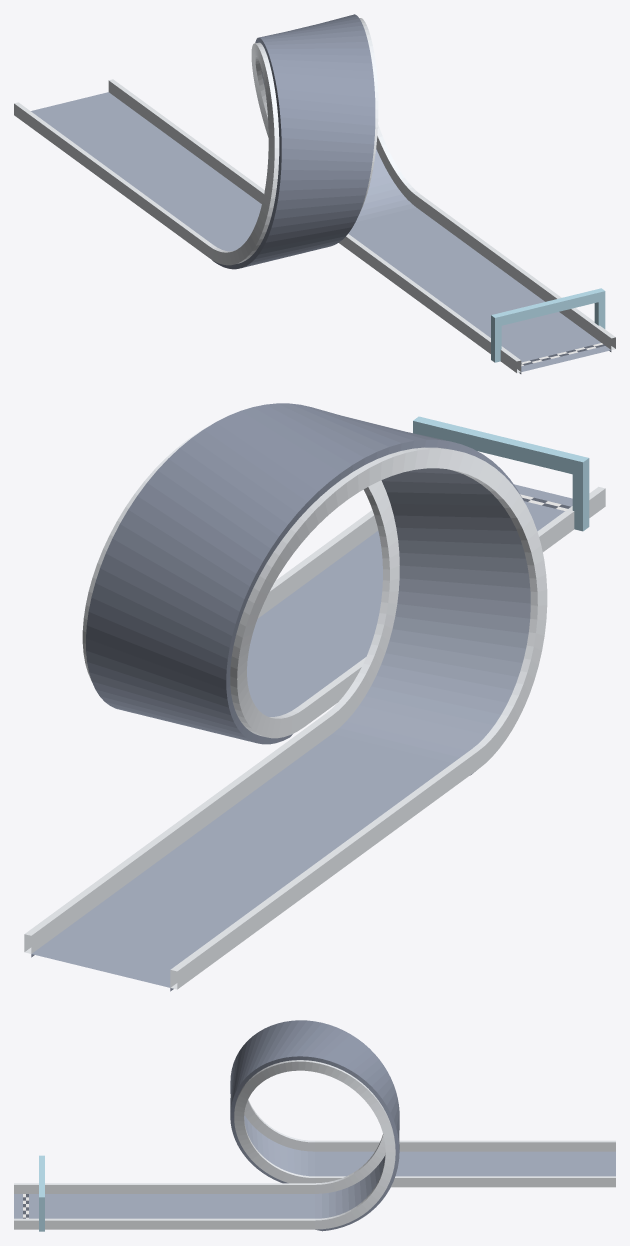
The model's file is vertical_loop.glb.
The picture shows the model from 3 angles, top to bottom: view 1: azimuth 30°, elevation 25°; view 2: azimuth 150°, elevation 25°; view 3: azimuth 270°, elevation 25°; orthographic projection. The views are drawn at different scales.
Visible parts, largest first — view 1: Road, Walls, ArchBeam; view 2: Road, Walls, ArchBeam, ArchPostL; view 3: Road, Walls.
Part boxes in pixels (<box>): Road: <box>31,14,611,373</box>; Walls: <box>14,18,615,373</box>; ArchBeam: <box>491,288,605,327</box>; Road: <box>31,403,572,991</box>; Walls: <box>24,428,605,989</box>; ArchBeam: <box>413,416,589,476</box>; ArchPostL: <box>572,470,589,531</box>; Road: <box>14,1020,615,1231</box>; Walls: <box>14,1060,615,1229</box>.
Size of what is drawn, in the model's own units: 96.5 by 84.64 by 300.
